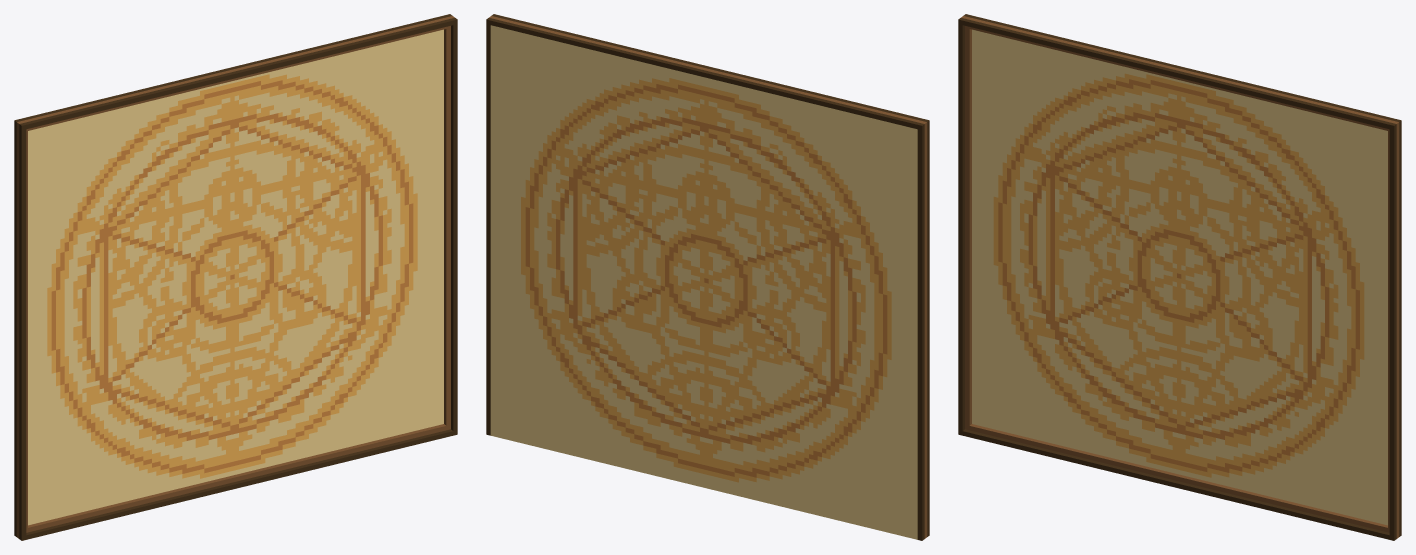
File: AlchemicalMap.obj
The picture shows the model from 3 angles, left to right: view 1: azimuth 30°, elevation 25°; view 2: azimuth 150°, elevation 25°; view 3: azimuth 330°, elevation 25°; orthographic projection.
Visible parts, largest first — view 1: AlchemicalMap; view 2: AlchemicalMap; view 3: AlchemicalMap.
Part boxes in pixels (x1,y1,x2,y2): AlchemicalMap: (14,14,457,540); AlchemicalMap: (486,14,929,540); AlchemicalMap: (958,14,1401,540).
Bounding box in the file's own units: 100 × 91 × 3.
1 material, 1 textured.
